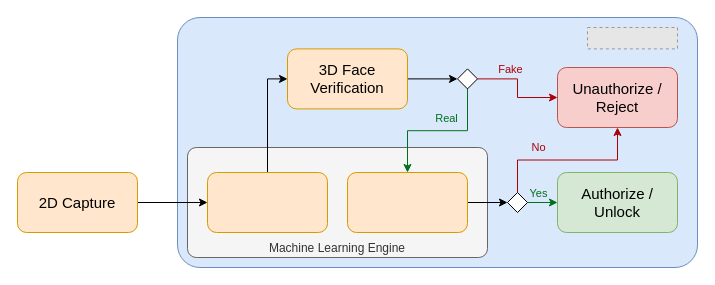
The diagram is 715 pixels wide and 285 high, and some of its shapes have lost their labels. Grey dashed boxes stand in for pictures. The shapes that lost their labels are listed below. From the top down, each one's centre as x and y in pixels, then its label:
(x=267, y=202): 2D Face Detection
(x=407, y=202): 2D Face Recognition
